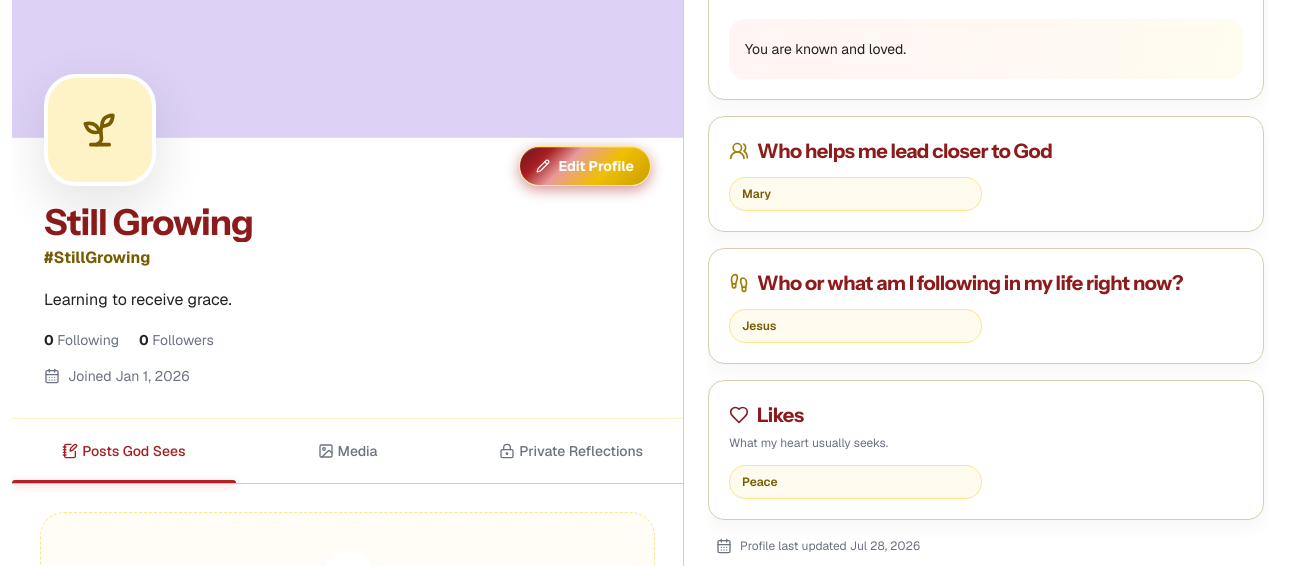
Test: ProfileDashboard private content › opens private content directly when confirmation is disabled
The width and height of the screenshot is (1292, 566).
Expected: the heading "Still Growing" is shown, [44,202,253,242]
Step 1. Click the tab "Private Reflections" → (571, 451), box [459,419,683,483]
(page scrolled)
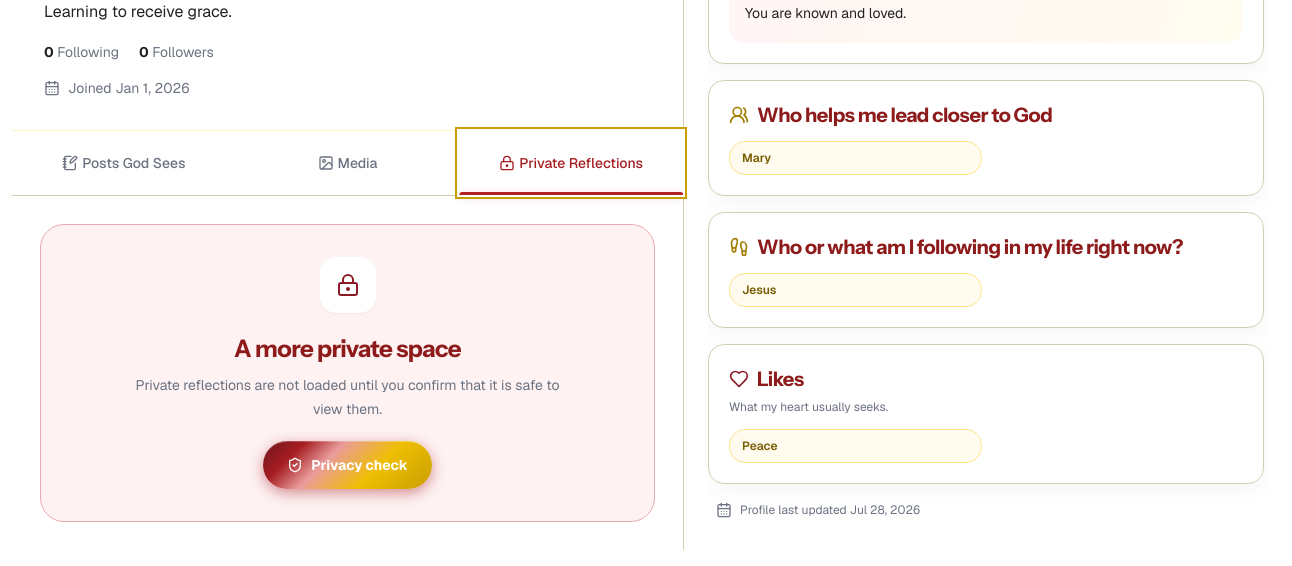
Step 2. Click the button "Privacy check" → (348, 465), box [263,441,432,489]
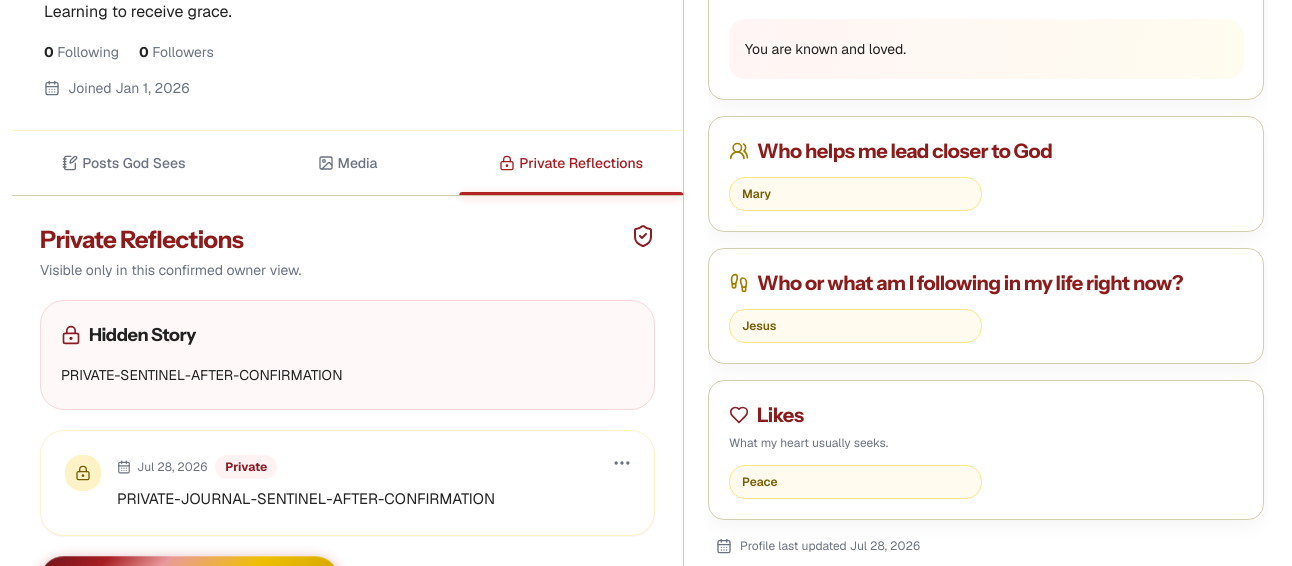
Result: the text "PRIVATE-SENTINEL-AFTER-CONFIRMATION" is shown at [61,366,342,384]
Result: the text "PRIVATE-JOURNAL-SENTINEL-AFTER-CONFIRMATION" is shown at [117,489,495,508]
